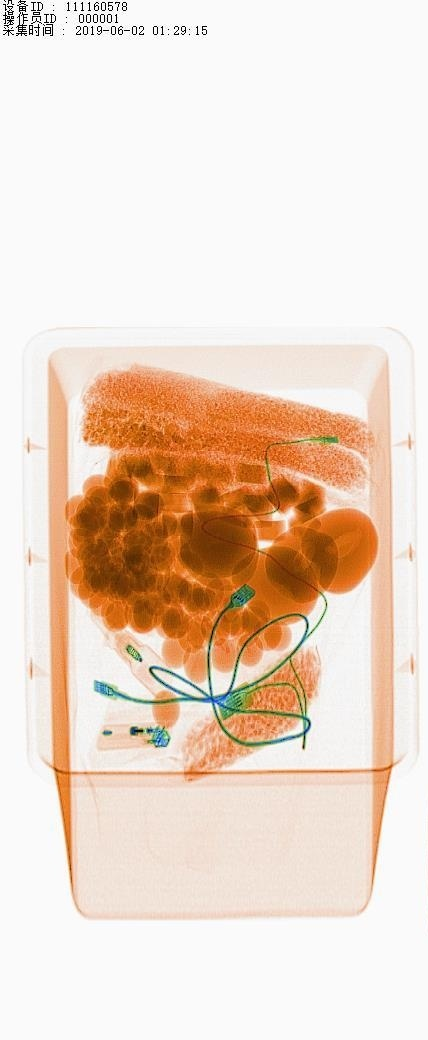NonmetallicFire: (77, 714, 196, 769)
